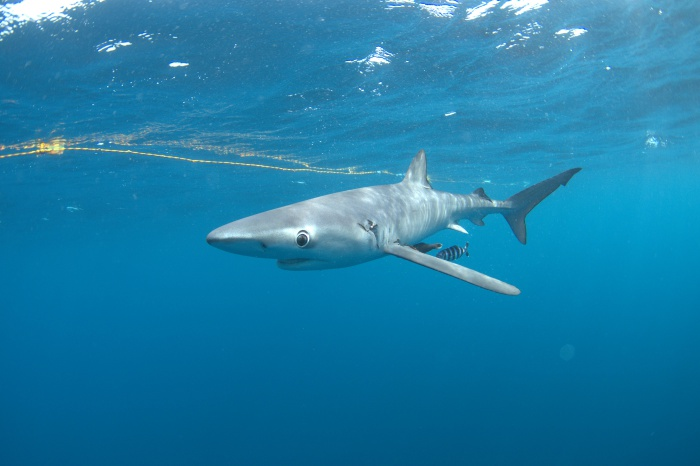Azul: (192, 142, 594, 310)
